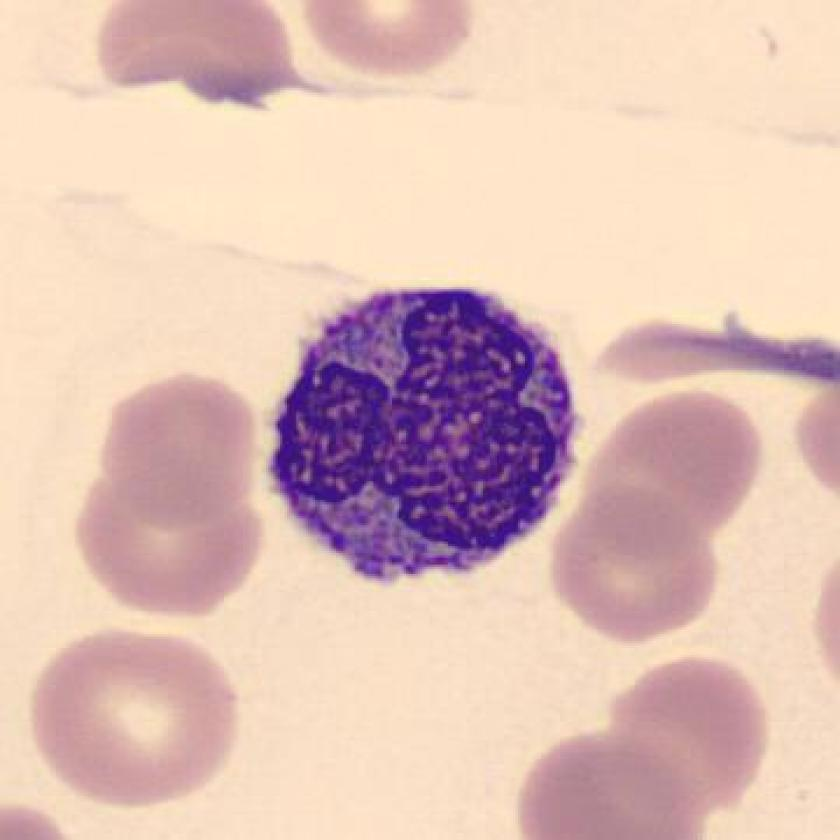monocyte: (255, 253, 589, 603)
